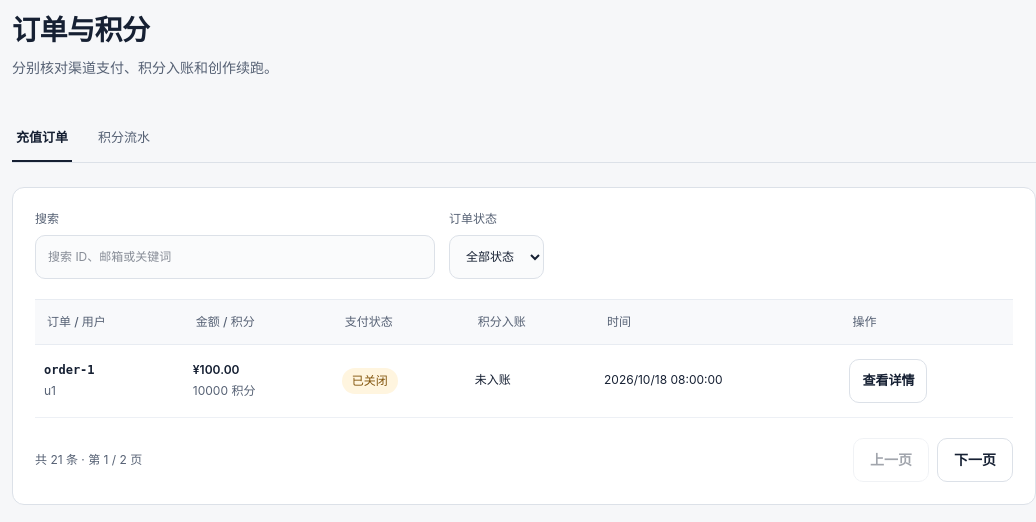
order status is exact and filters are sent to server with paging
The image size is (1036, 522).
Select "已关闭" in the dropdown labelled "订单状态" at (496, 257), box [449, 235, 544, 279]
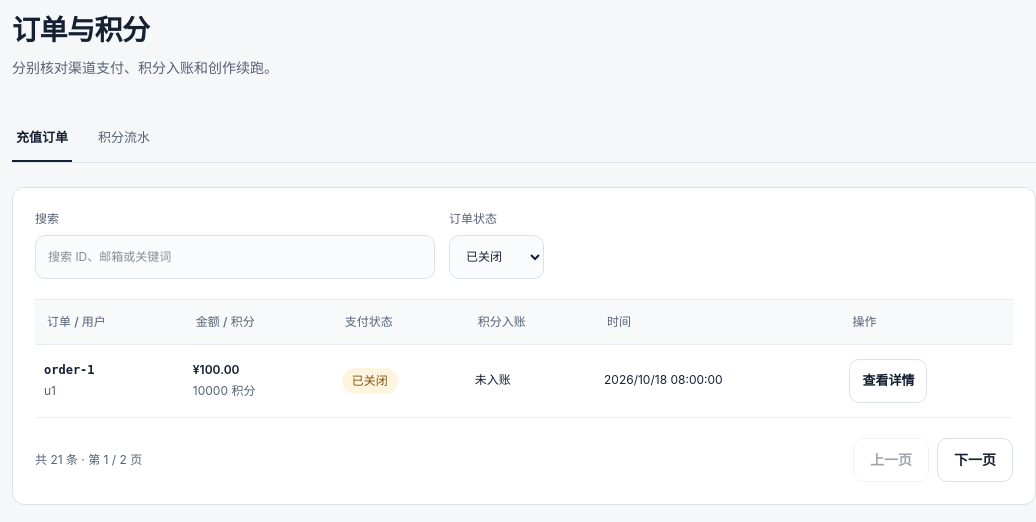
Click the button "下一页" at (975, 460), box [937, 438, 1013, 482]
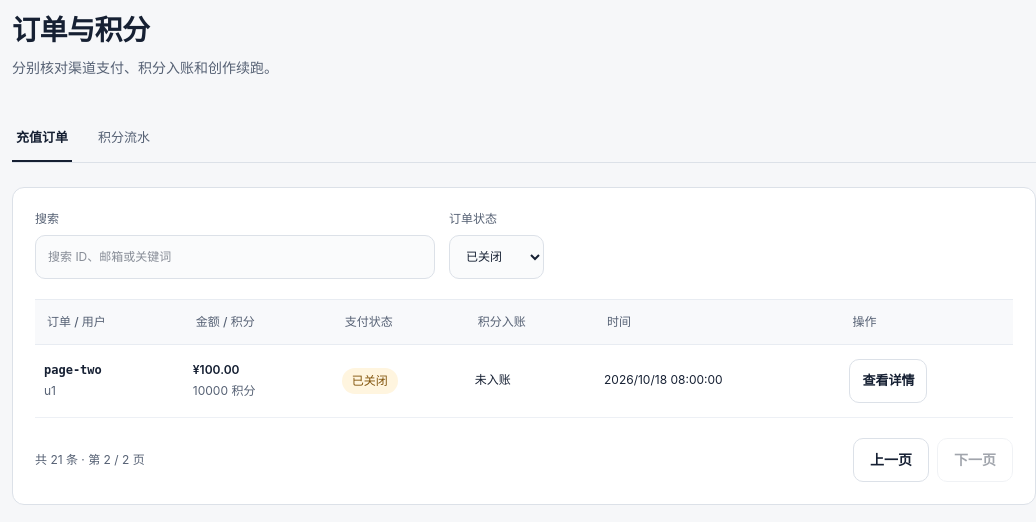
Result: the text "page-two" is shown at [44, 363, 102, 377]
